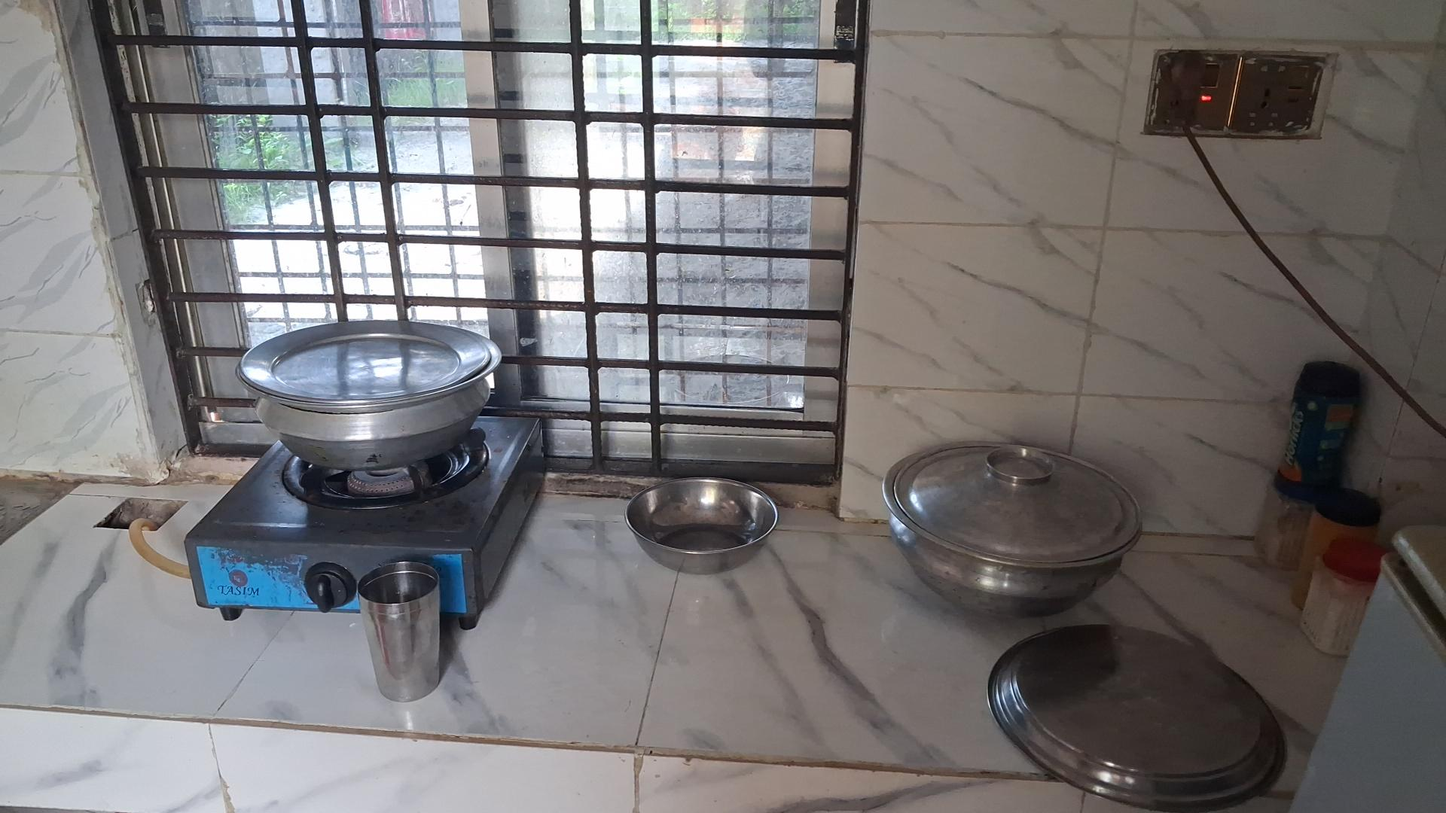Bowl: (625, 476, 779, 574)
Glass: (356, 560, 444, 704)
Jar: (1289, 360, 1368, 499), (1306, 537, 1390, 659)
Plate: (983, 623, 1286, 813)
Pot: (882, 439, 1144, 618), (234, 312, 497, 472)
